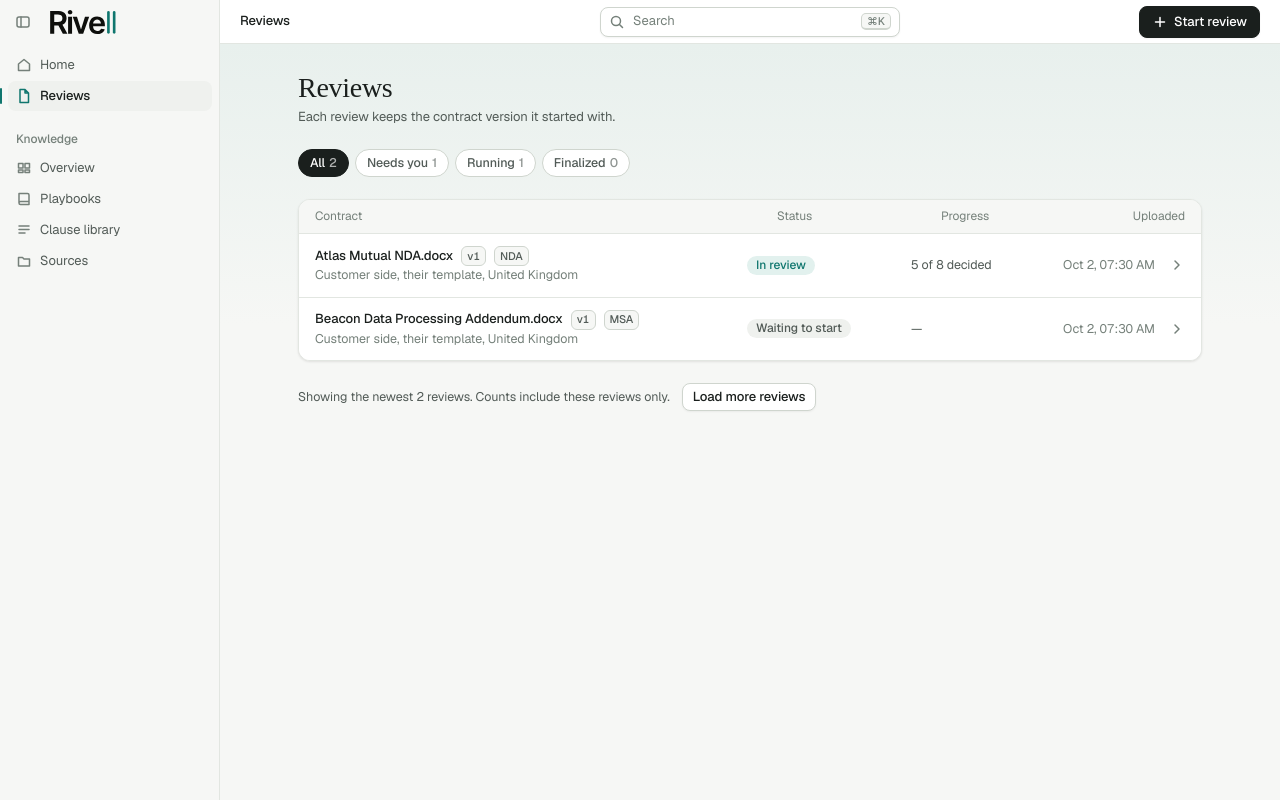
Test: Reviews page › discloses truncation and loads the next page on request, without repeating rows
Expected: the text "Showing the newest 2 reviews" is shown, 298,388 -> 670,406
Step 1. Click the button "Load more reviews" → (749, 397), box 682,383 -> 816,411
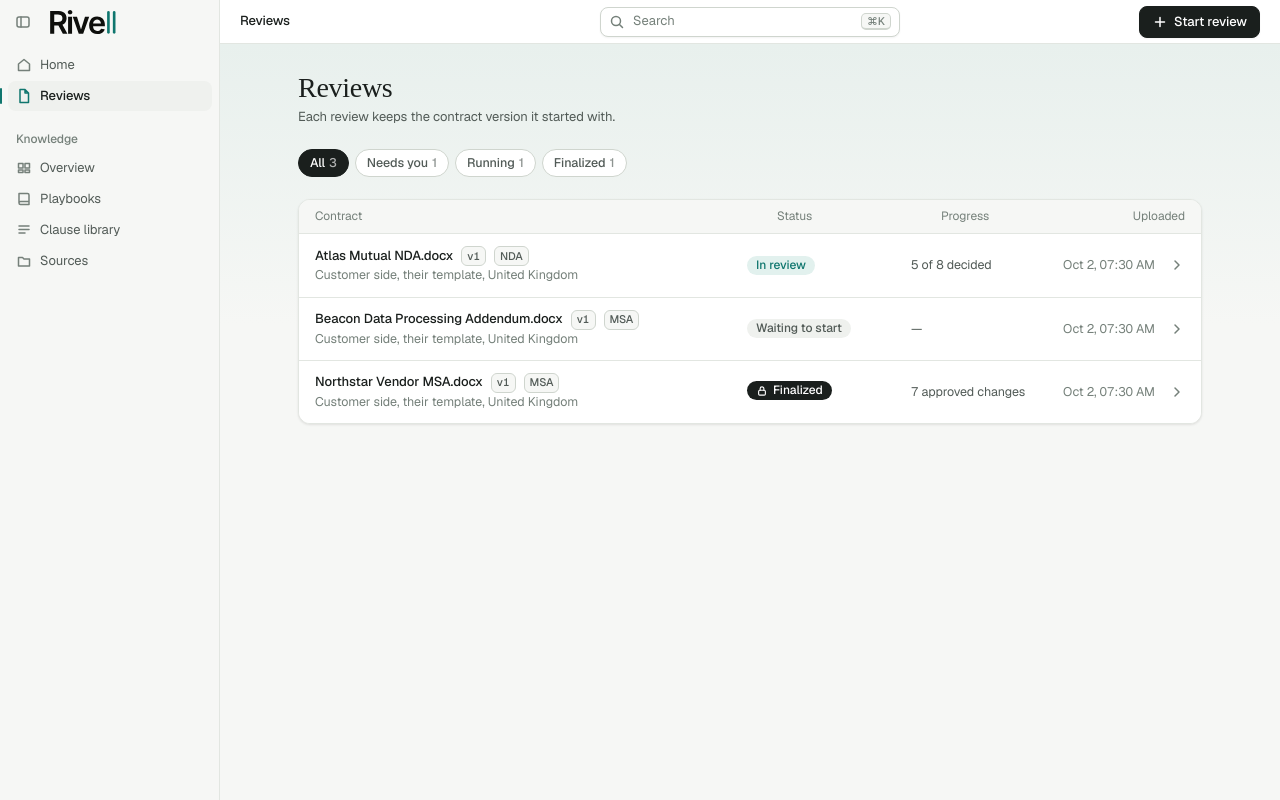
Expected: the number of links ".docx" is 3, 299,234 -> 1201,296; 299,296 -> 1201,360; 299,360 -> 1201,423
Expected: the button "Load more reviews" is gone
